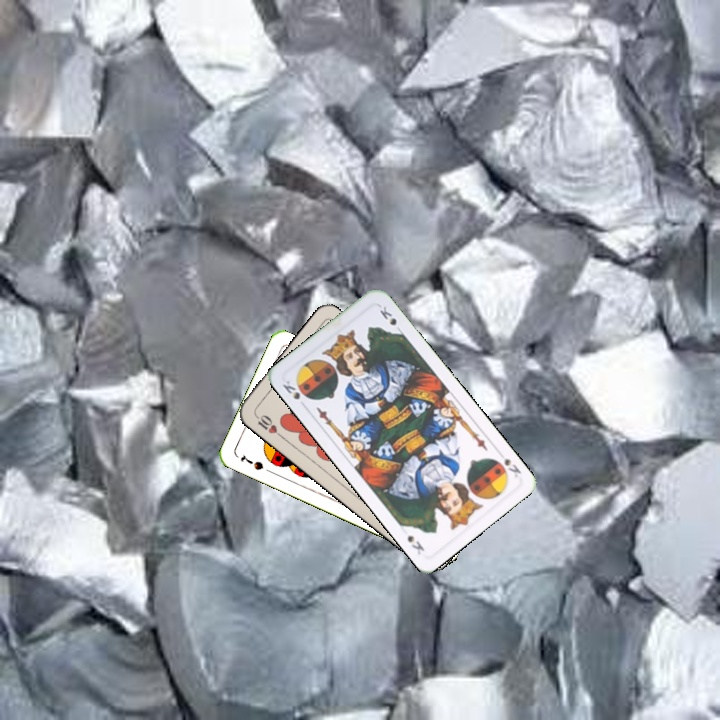H10: (251, 411, 285, 441)
S7: (236, 450, 266, 473)
SK: (493, 447, 524, 480), (278, 376, 311, 402)
